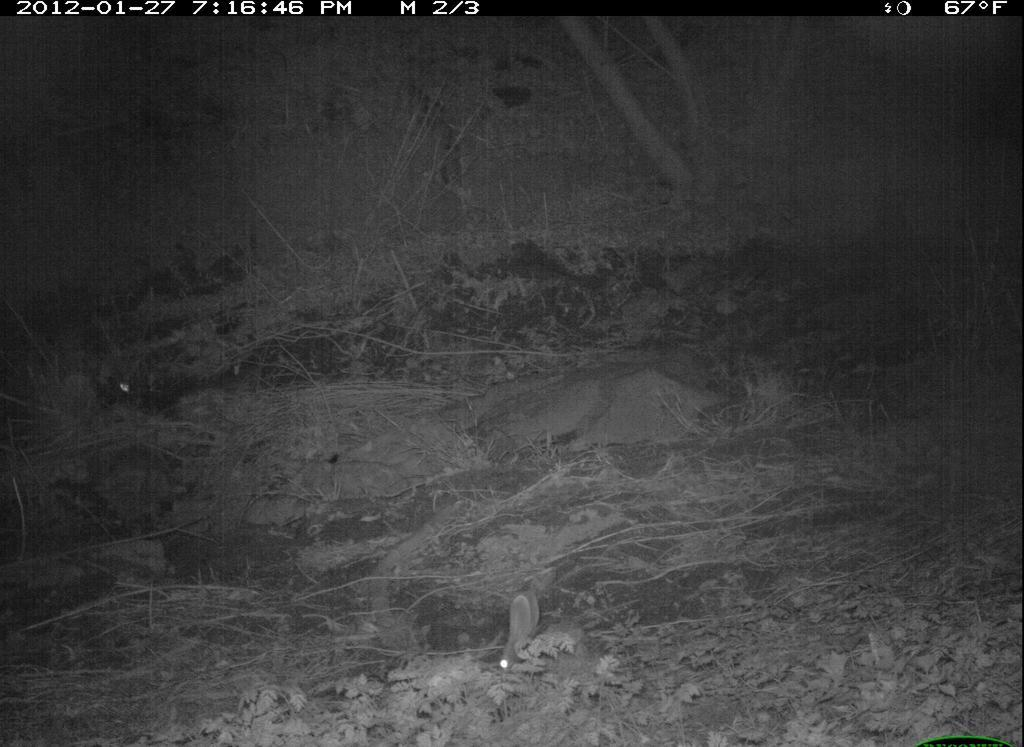rabbit: (497, 587, 616, 701)
